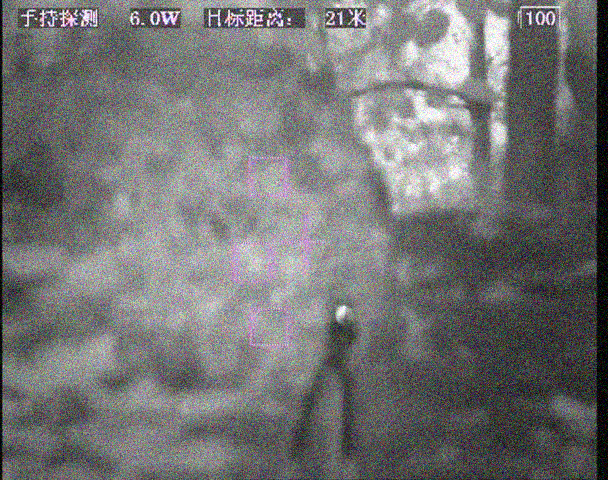my: (334, 304, 355, 325)
